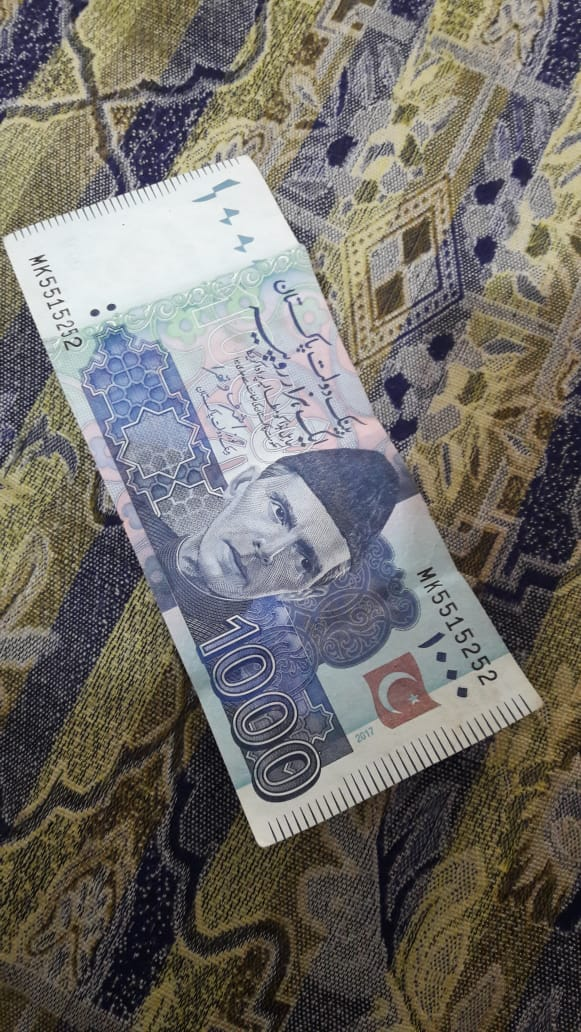1000 rupee: (1, 123, 554, 898)
